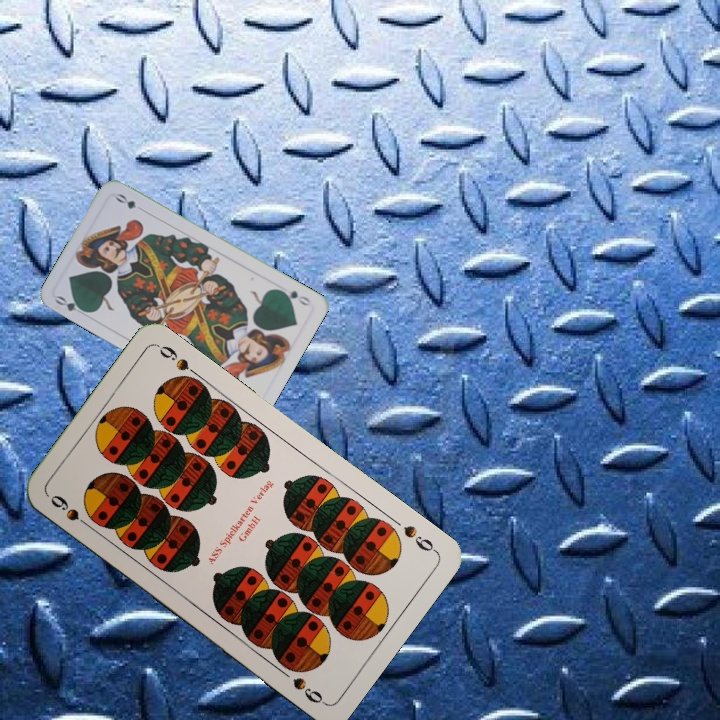GO: (51, 292, 91, 319), (275, 286, 313, 308)
S9: (46, 490, 96, 532), (399, 521, 440, 555)
